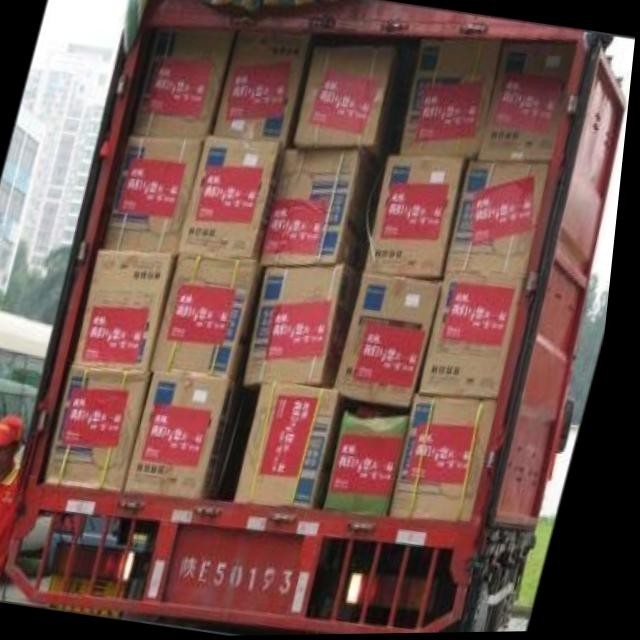box: (134, 369, 258, 500), (265, 148, 393, 274), (341, 274, 448, 411), (255, 265, 371, 387), (158, 255, 272, 379), (295, 46, 411, 166), (246, 381, 356, 507), (55, 365, 161, 491), (401, 394, 505, 521), (428, 273, 529, 401), (370, 158, 470, 285), (105, 132, 209, 254), (182, 137, 289, 255), (212, 30, 318, 149), (450, 160, 554, 278), (81, 253, 184, 369), (403, 42, 504, 159), (482, 41, 578, 162), (137, 27, 240, 137), (334, 415, 421, 514)
